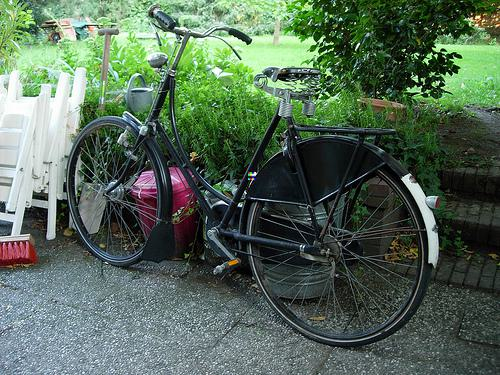car: (64, 4, 440, 348)
